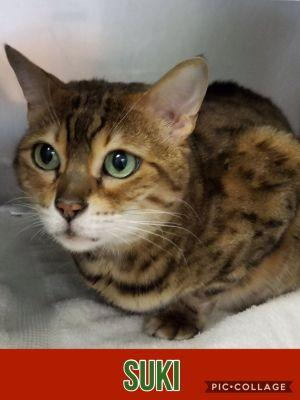bengal: (1, 20, 217, 275)
